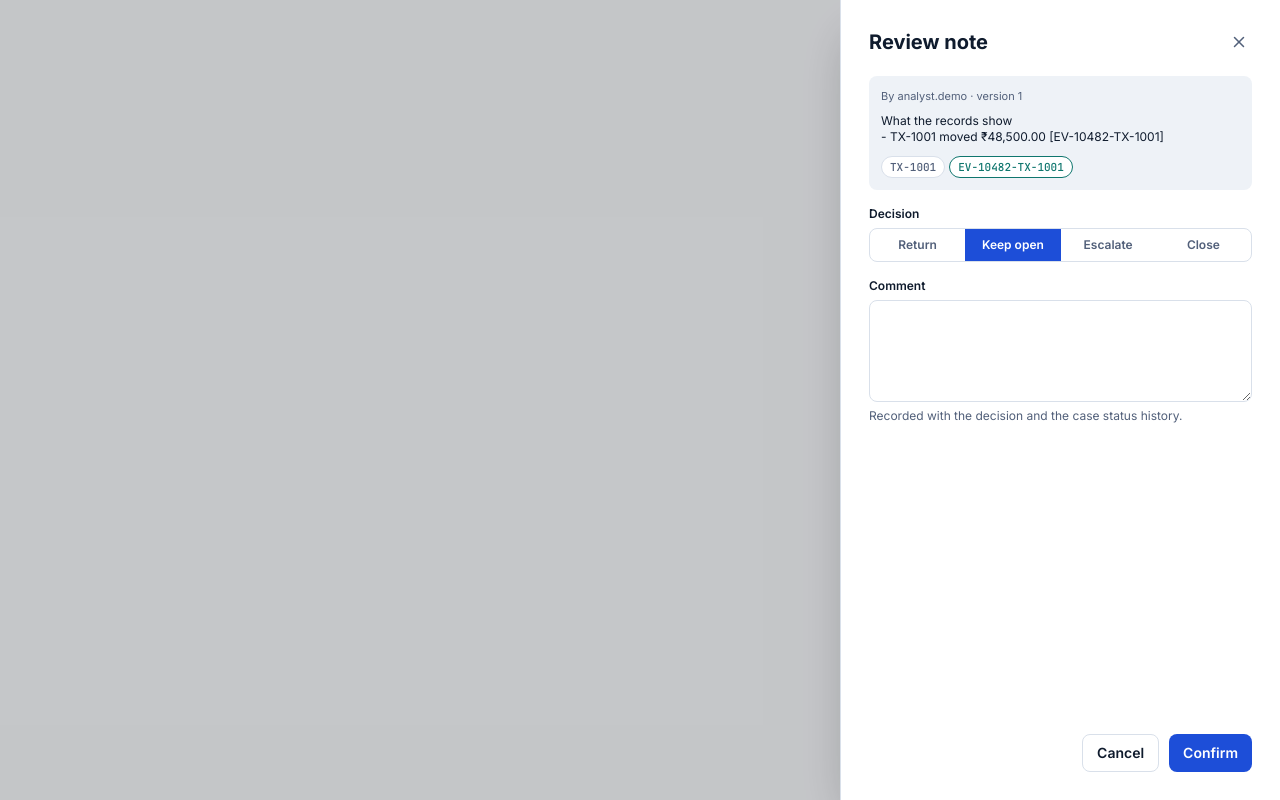
Scenario: ReviewDrawer › self review error shown in banner
Click the radio button labelled "Keep open": (1013, 245) [965,229,1061,261]
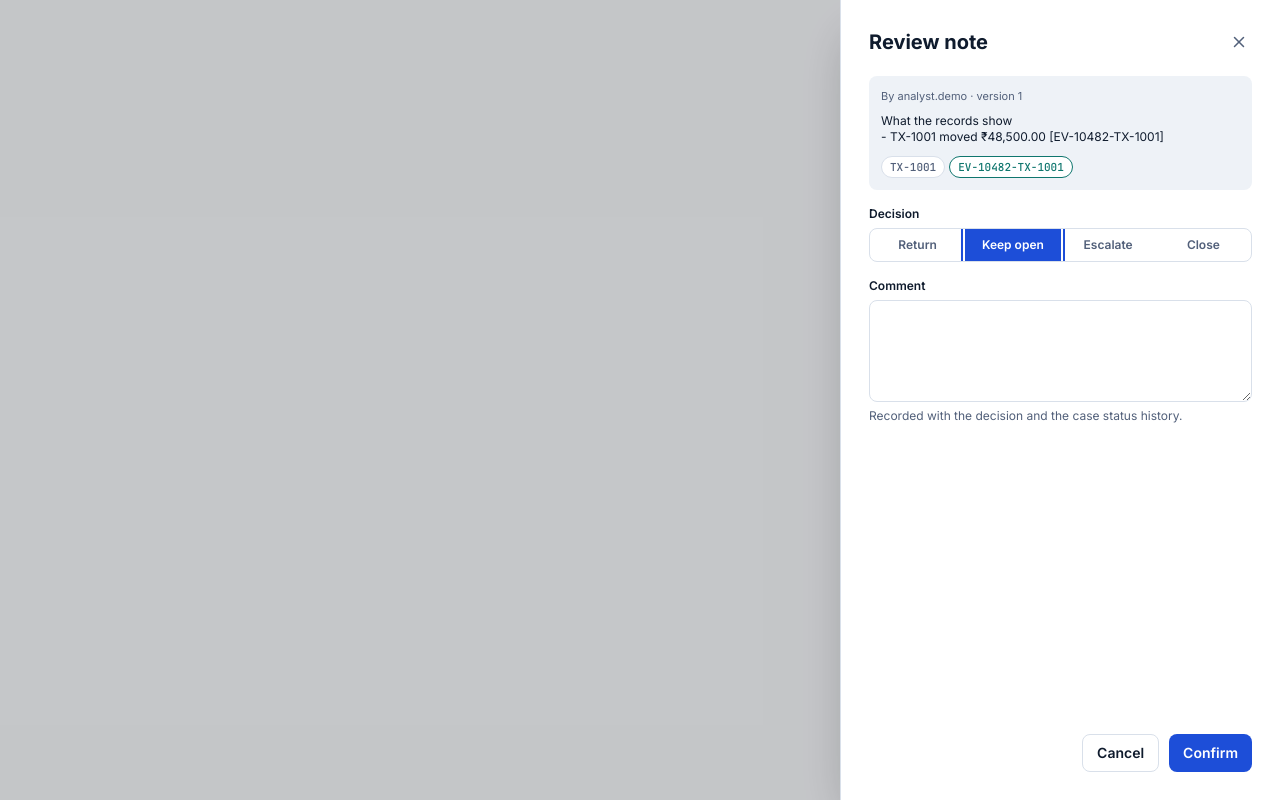
Click the button "Confirm": (1211, 753) [1169,734,1252,772]
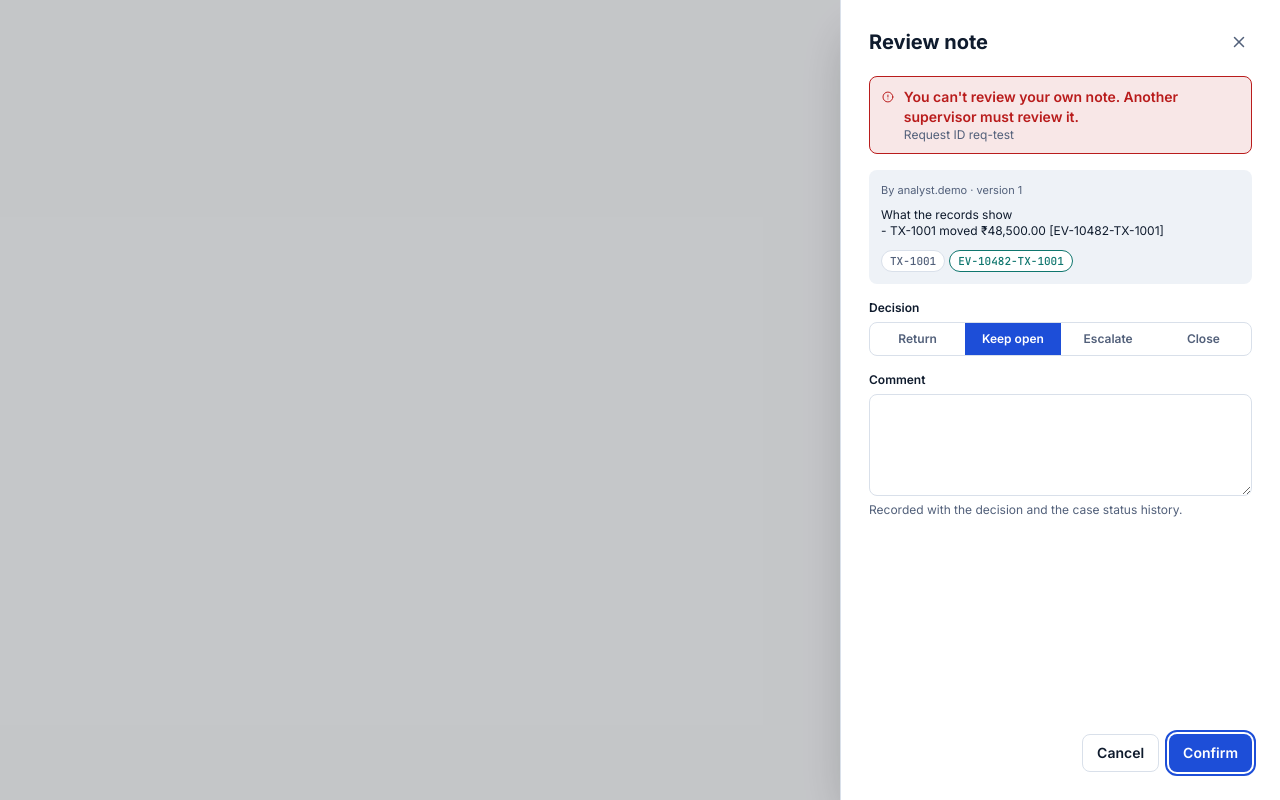
Now the message shows "You can't review your own note.", box [904,88,1178,125]
